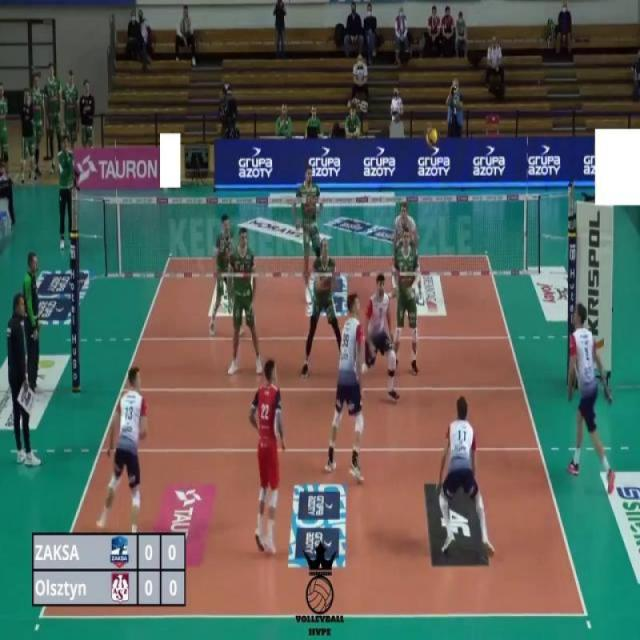volleyball: (425, 125, 438, 148)
